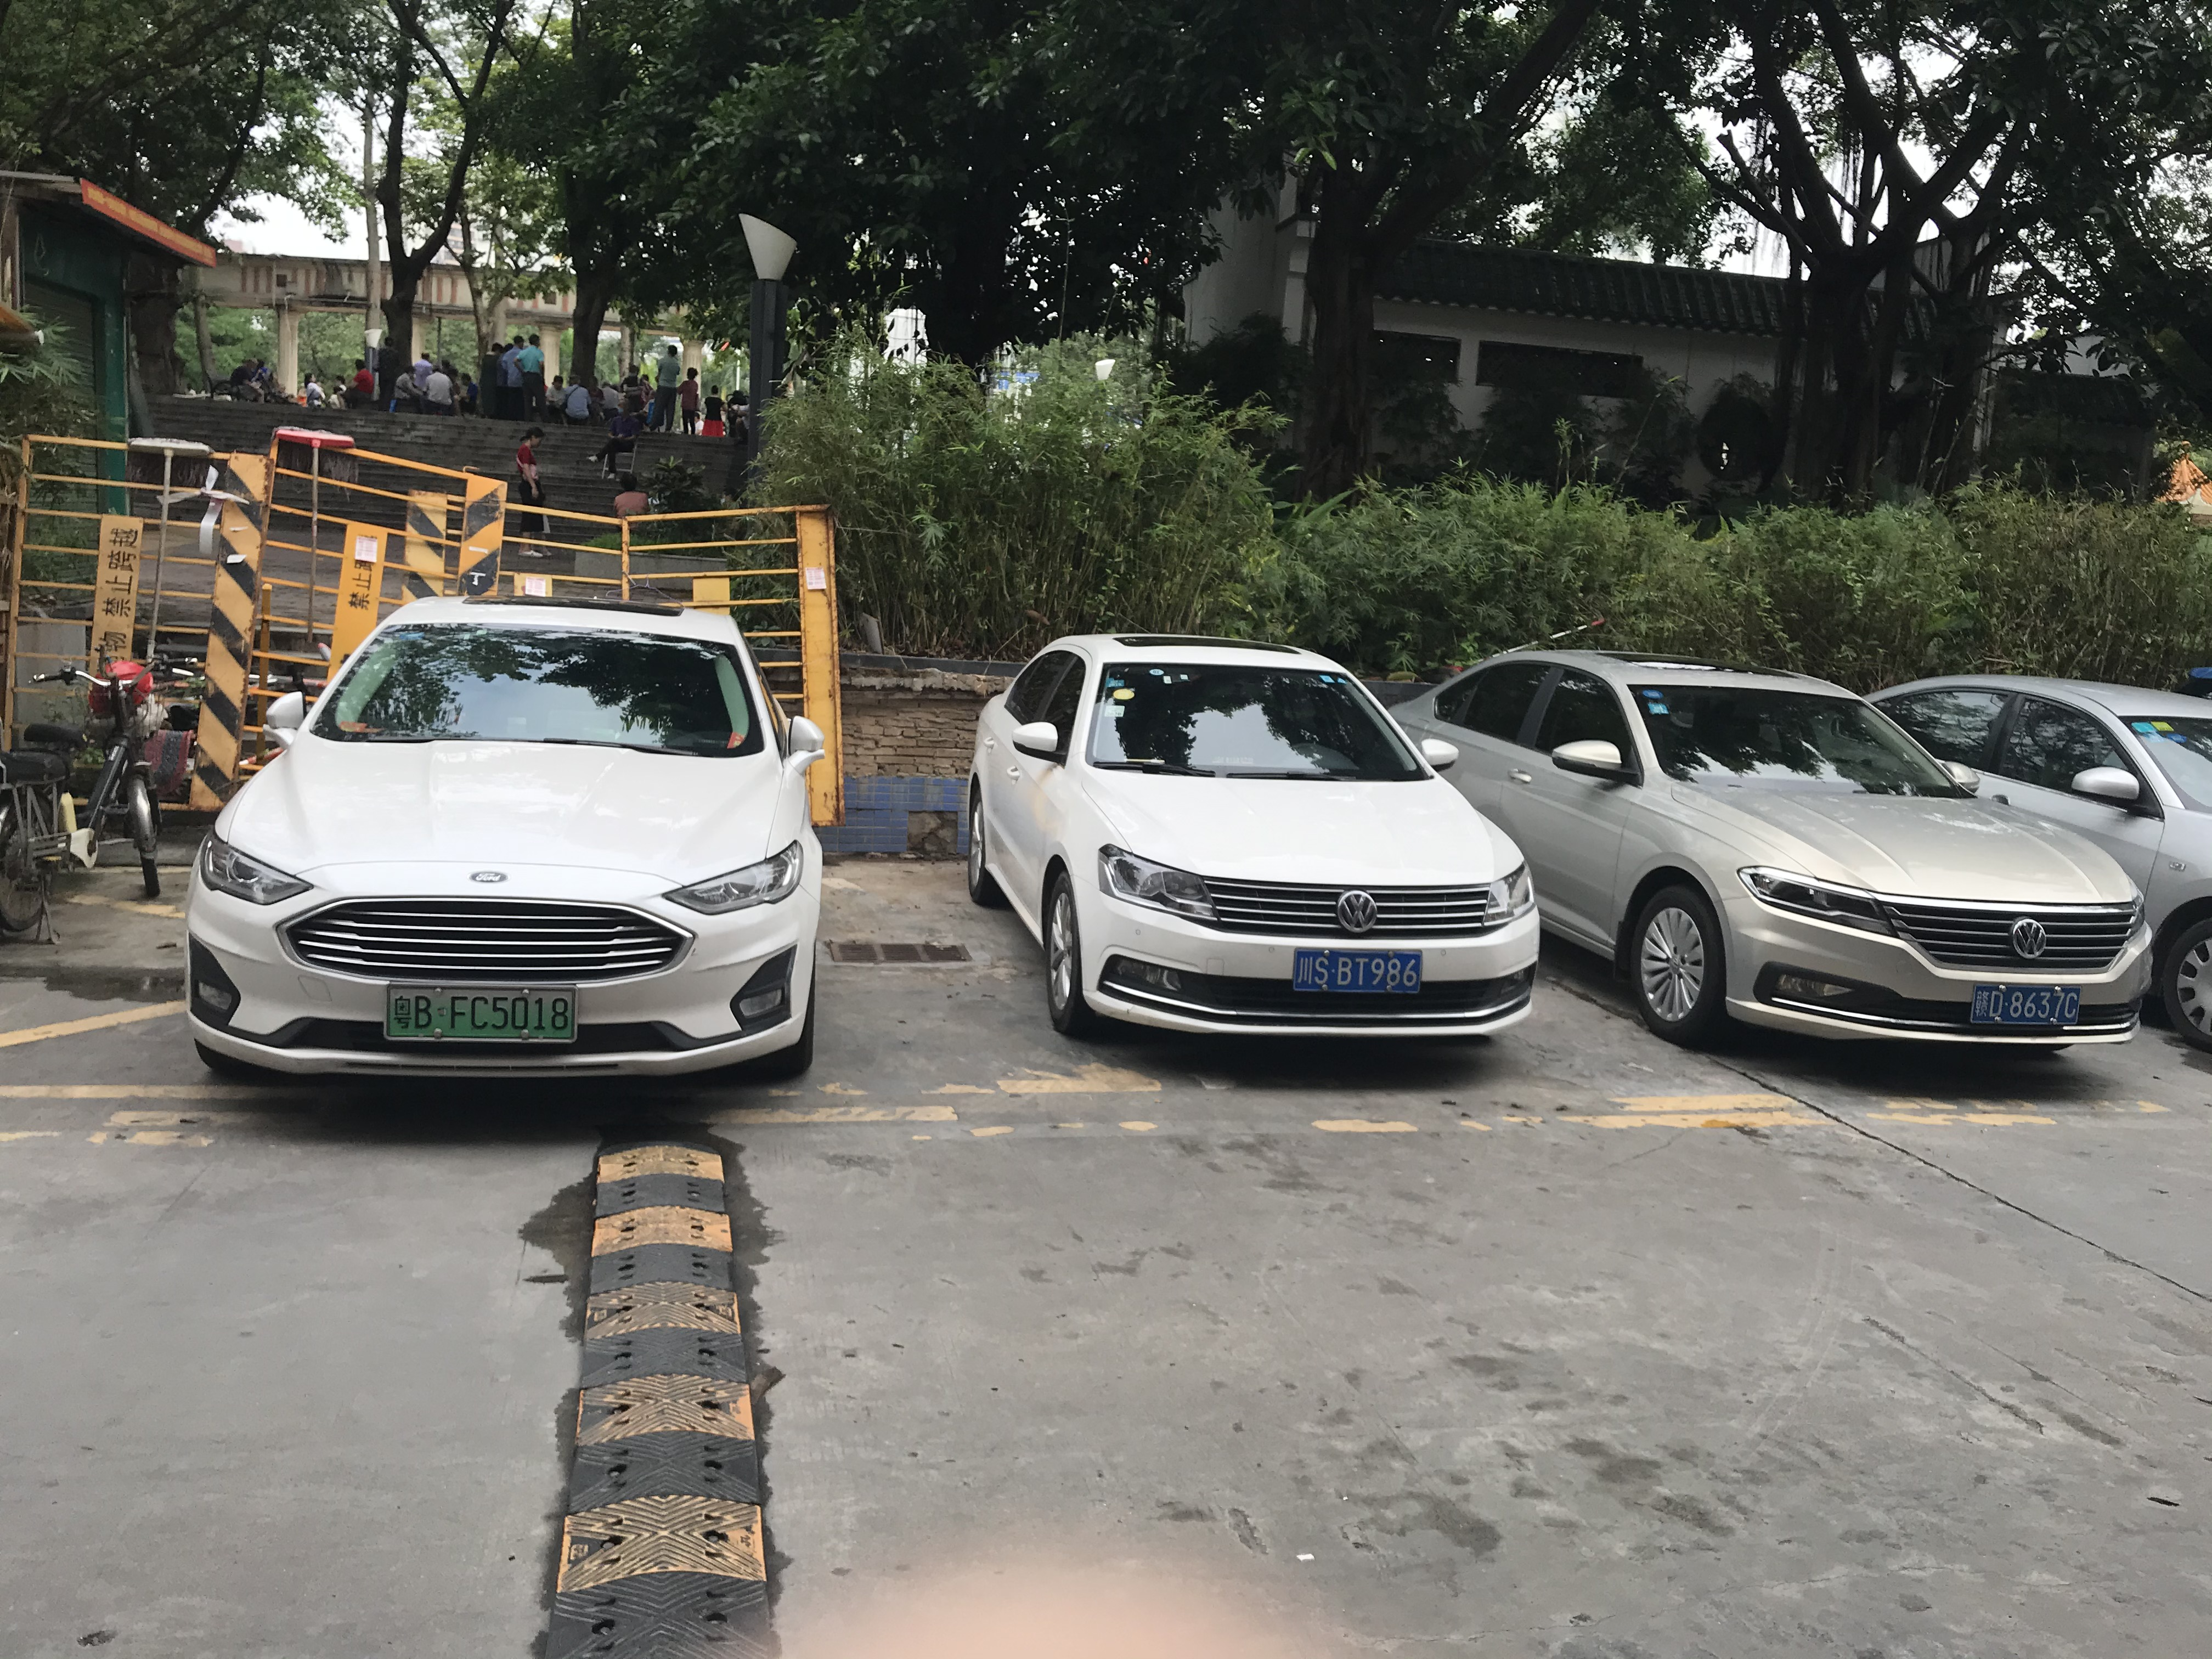bluePlate: (1296, 943, 1425, 997), (1973, 978, 2081, 1028)
greenPlate: (383, 978, 585, 1047)
